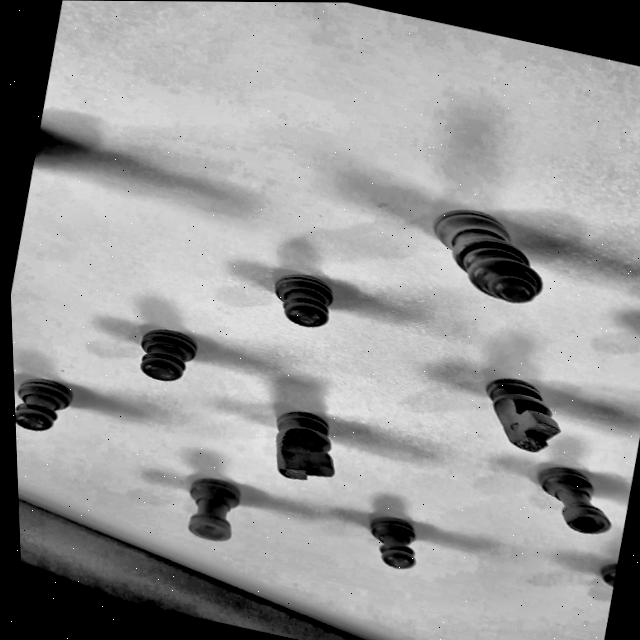black-knight: (459, 362, 583, 461), (247, 394, 352, 488)
black-pawn: (247, 256, 349, 336), (110, 311, 207, 392), (336, 493, 433, 574), (13, 360, 85, 443)
black-queen: (405, 188, 565, 313)
black-rook: (510, 455, 625, 542), (163, 464, 256, 554)
